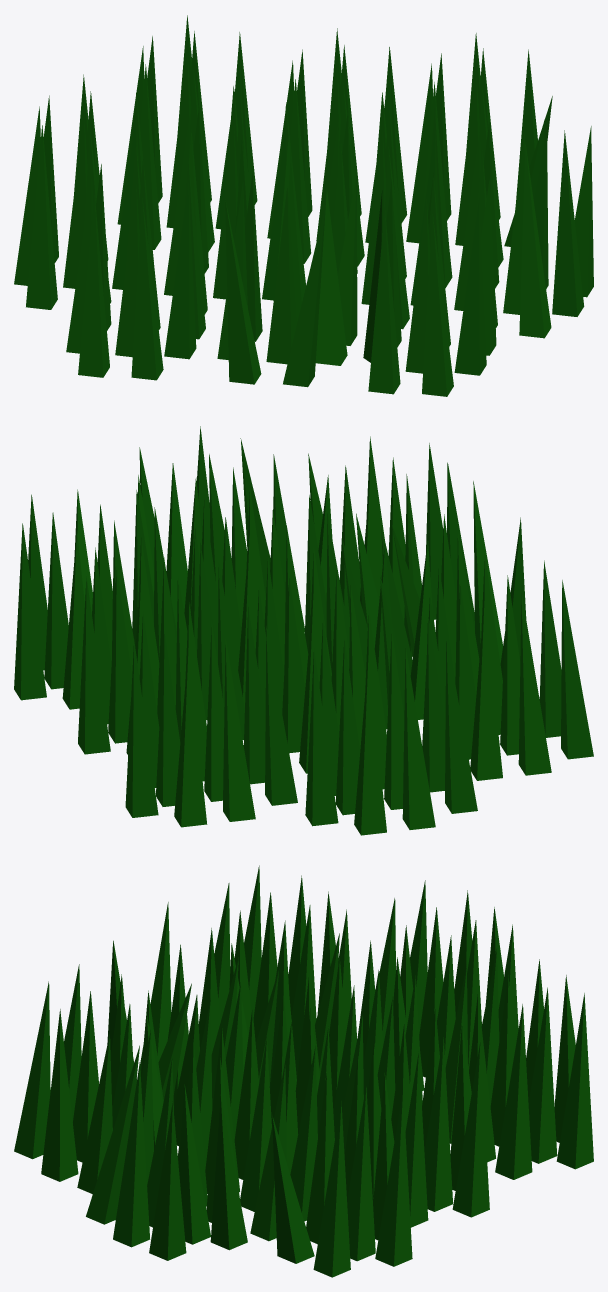
The model's file is Grass.fbx.
The picture shows the model from 3 angles, top to bottom: view 1: azimuth 30°, elevation 25°; view 2: azimuth 150°, elevation 25°; view 3: azimuth 270°, elevation 25°; orthographic projection. The views are drawn at different scales.
Visible parts, largest first — view 1: Конус; view 2: Конус; view 3: Конус.
Part boxes in pixels (left/top/right/bottom): Конус: left=14, top=15, right=593, bottom=396; Конус: left=14, top=426, right=593, bottom=835; Конус: left=14, top=865, right=593, bottom=1277.
Bounding box in the file's own units: 31.84 × 10.82 × 31.07.
